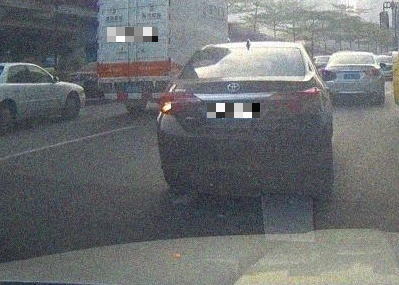L_light: (159, 92, 204, 114)
R_light: (267, 87, 321, 114)
T_light: (224, 72, 249, 77)
day-left: (156, 42, 324, 200)
plate_1: (107, 27, 158, 42)
plate_2: (207, 103, 260, 118)
